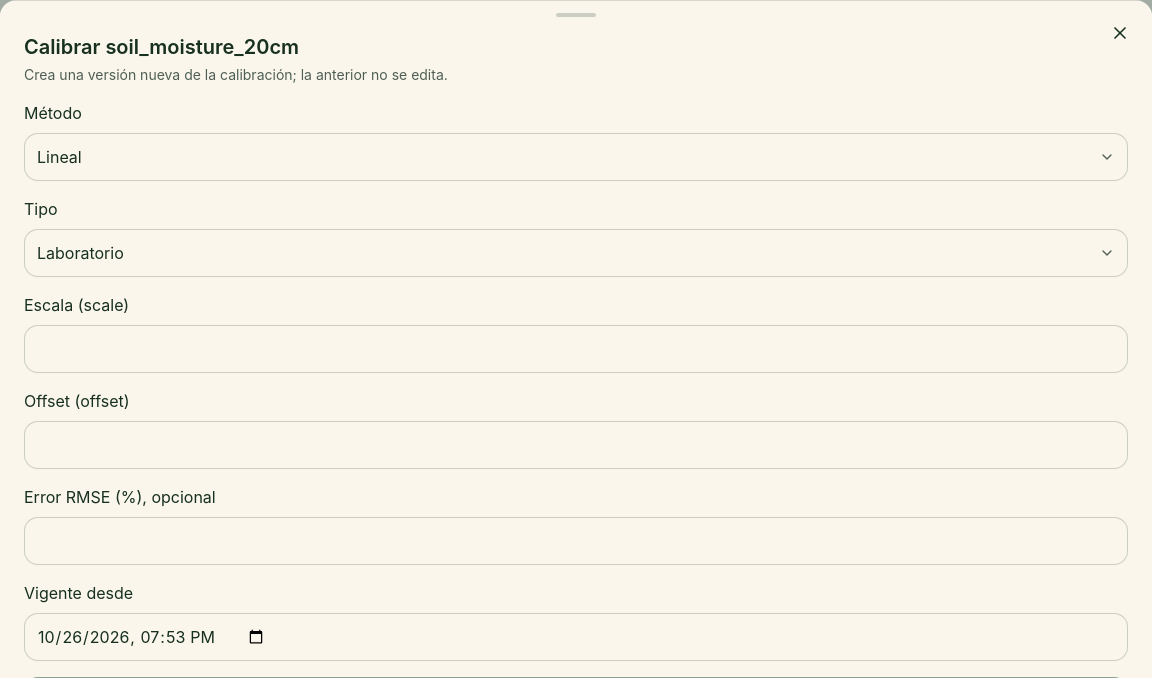
it: CalibrationSheet › asks for the two_point params the server validates
Click the dropdown named "Método": click(59, 157) [24,133,1128,181]
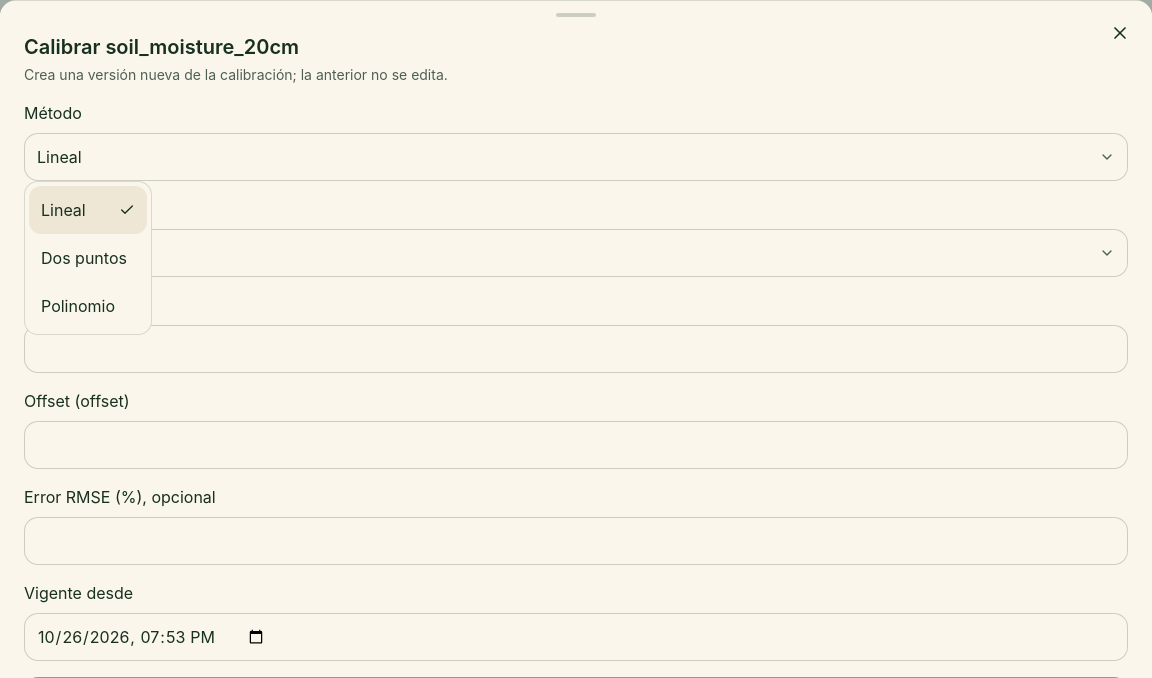
Click the option "Dos puntos": click(84, 258) [41,248,127,268]
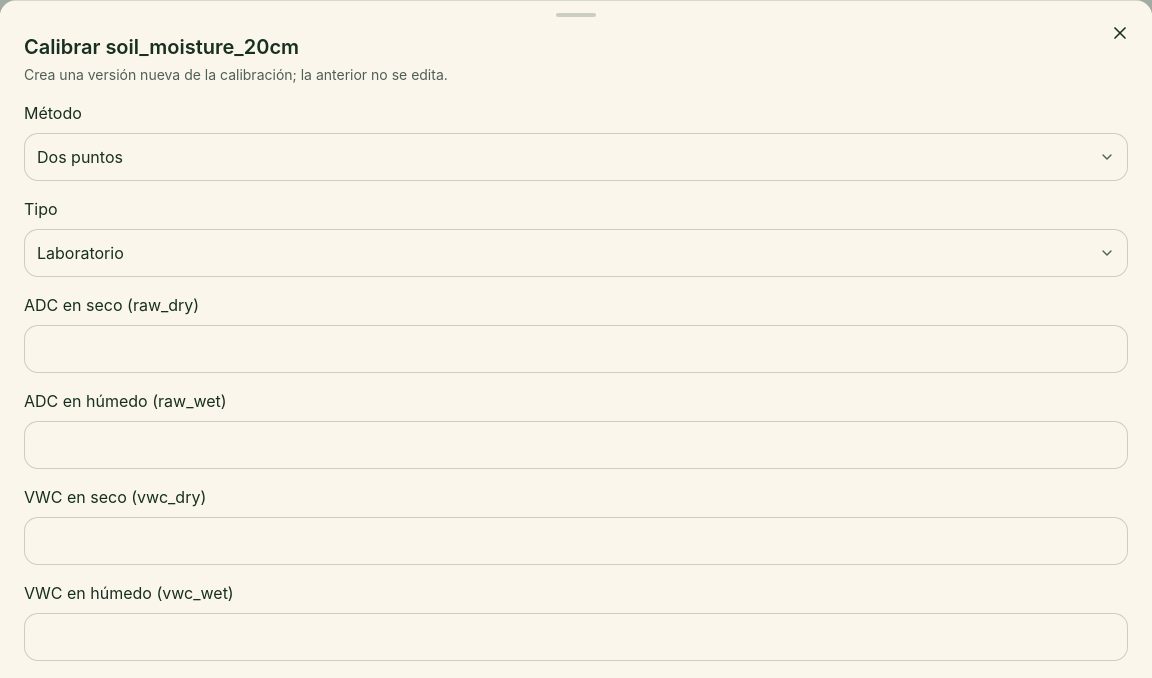
Now the field labelled "ADC en seco (raw_dry)" is shown, box [24,325,1128,373]
Now the field labelled "VWC en húmedo (vwc_wet)" is shown, box [24,613,1128,661]
Now the label labelled "Escala" is gone
